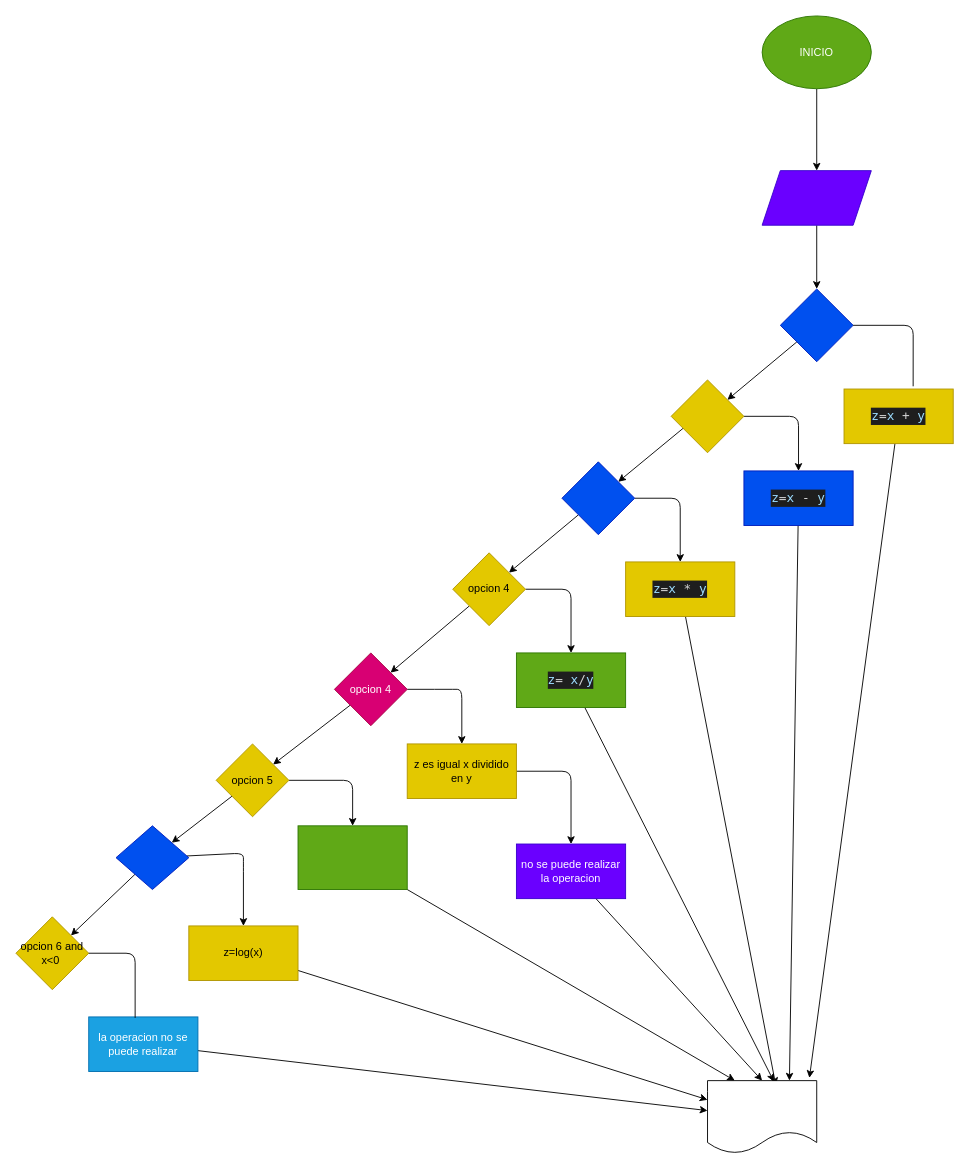
Some shapes in this 969 by 1169 pixel diagram are drawn without their labels. Each missing label, with the centre of its shape:
opcion 1: point (816, 325)
opcion 2: point (707, 416)
opcion 3: point (598, 498)
opcion 6 and x>0: point (152, 857)
Resultado = Z: point (762, 1116)
x, y, opcion: point (816, 197)
z = pow ( x , y ): point (352, 857)
